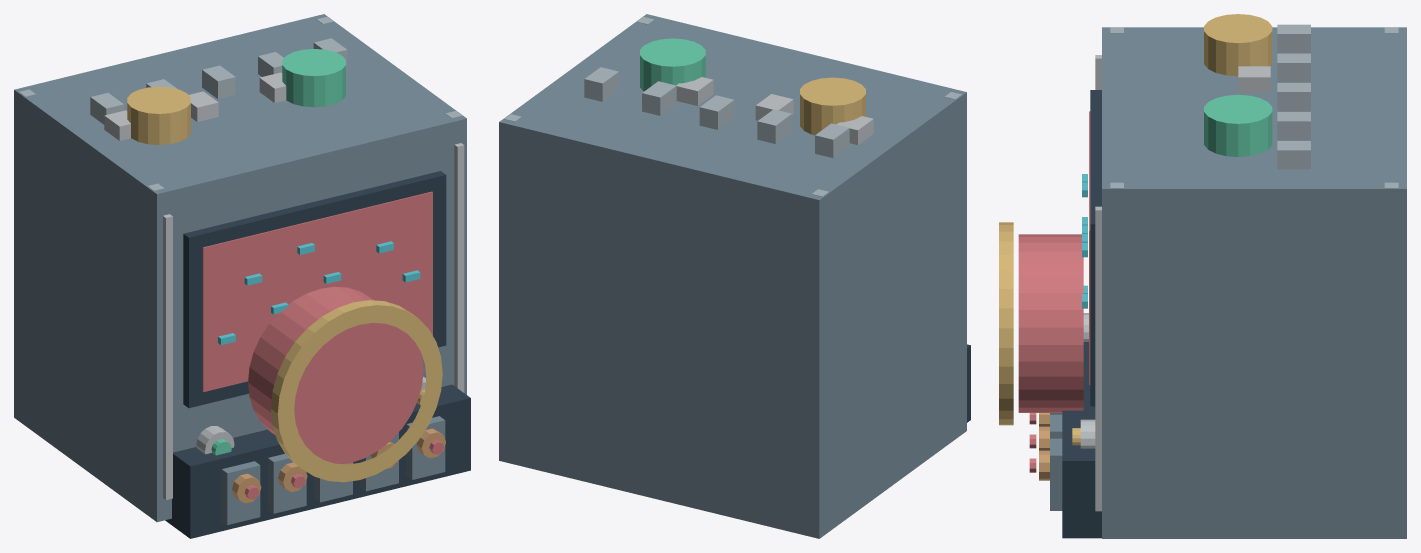
File: 39_L73_CMPEmergencySafetyStation.glb
The picture shows the model from 3 angles, left to right: view 1: azimuth 30°, elevation 25°; view 2: azimuth 150°, elevation 25°; view 3: azimuth 270°, elevation 25°; orthographic projection. The views are drawn at different scales.
Visible parts, largest first — view 1: CMPEmergencySafetyStation_Node_0000, CMPEmergencySafetyStation_Node_0008, CMPEmergencySafetyStation_Node_0050, CMPEmergencySafetyStation_Node_0007, CMPEmergencySafetyStation_Node_0034, CMPEmergencySafetyStation_Node_0051, CMPEmergencySafetyStation_Node_0052, CMPEmergencySafetyStation_Node_0053, CMPEmergencySafetyStation_Node_0005, CMPEmergencySafetyStation_Node_0006, CMPEmergencySafetyStation_Node_0035, CMPEmergencySafetyStation_Node_0038 (+9 smaller); view 2: CMPEmergencySafetyStation_Node_0000, CMPEmergencySafetyStation_Node_0052, CMPEmergencySafetyStation_Node_0053, CMPEmergencySafetyStation_Node_0026, CMPEmergencySafetyStation_Node_0028, CMPEmergencySafetyStation_Node_0025, CMPEmergencySafetyStation_Node_0024, CMPEmergencySafetyStation_Node_0027, CMPEmergencySafetyStation_Node_0023, CMPEmergencySafetyStation_Node_0021, CMPEmergencySafetyStation_Node_0022; view 3: CMPEmergencySafetyStation_Node_0000, CMPEmergencySafetyStation_Node_0050, CMPEmergencySafetyStation_Node_0034, CMPEmergencySafetyStation_Node_0053, CMPEmergencySafetyStation_Node_0052, CMPEmergencySafetyStation_Node_0051, CMPEmergencySafetyStation_Node_0007, CMPEmergencySafetyStation_Node_0006, CMPEmergencySafetyStation_Node_0024, CMPEmergencySafetyStation_Node_0025, CMPEmergencySafetyStation_Node_0026, CMPEmergencySafetyStation_Node_0027 (+4 smaller).
Part boxes in pixels (x1,y1,x2,y2): CMPEmergencySafetyStation_Node_0000: (14, 14, 466, 522); CMPEmergencySafetyStation_Node_0008: (202, 191, 432, 391); CMPEmergencySafetyStation_Node_0050: (248, 286, 423, 464); CMPEmergencySafetyStation_Node_0007: (183, 171, 446, 408); CMPEmergencySafetyStation_Node_0034: (165, 384, 470, 538); CMPEmergencySafetyStation_Node_0051: (271, 300, 442, 482); CMPEmergencySafetyStation_Node_0052: (127, 86, 190, 144); CMPEmergencySafetyStation_Node_0053: (282, 49, 345, 107); CMPEmergencySafetyStation_Node_0005: (163, 214, 172, 499); CMPEmergencySafetyStation_Node_0006: (454, 143, 464, 392); CMPEmergencySafetyStation_Node_0035: (221, 461, 260, 524); CMPEmergencySafetyStation_Node_0038: (268, 454, 306, 513); CMPEmergencySafetyStation_Node_0000: (499, 14, 966, 538); CMPEmergencySafetyStation_Node_0052: (800, 77, 865, 135); CMPEmergencySafetyStation_Node_0053: (640, 38, 705, 91); CMPEmergencySafetyStation_Node_0026: (699, 95, 734, 129); CMPEmergencySafetyStation_Node_0028: (584, 67, 618, 101); CMPEmergencySafetyStation_Node_0025: (757, 109, 791, 143); CMPEmergencySafetyStation_Node_0024: (815, 123, 849, 158); CMPEmergencySafetyStation_Node_0027: (642, 81, 676, 115); CMPEmergencySafetyStation_Node_0023: (676, 77, 713, 105); CMPEmergencySafetyStation_Node_0021: (836, 116, 873, 144); CMPEmergencySafetyStation_Node_0022: (755, 94, 793, 120); CMPEmergencySafetyStation_Node_0000: (1102, 27, 1406, 538); CMPEmergencySafetyStation_Node_0050: (1018, 234, 1083, 412); CMPEmergencySafetyStation_Node_0034: (1062, 342, 1101, 538); CMPEmergencySafetyStation_Node_0053: (1204, 94, 1272, 156); CMPEmergencySafetyStation_Node_0052: (1204, 14, 1272, 76); CMPEmergencySafetyStation_Node_0051: (999, 222, 1013, 425); CMPEmergencySafetyStation_Node_0007: (1090, 90, 1101, 406); CMPEmergencySafetyStation_Node_0006: (1095, 206, 1101, 511); CMPEmergencySafetyStation_Node_0024: (1277, 24, 1310, 52); CMPEmergencySafetyStation_Node_0025: (1277, 53, 1310, 81); CMPEmergencySafetyStation_Node_0026: (1277, 83, 1310, 111); CMPEmergencySafetyStation_Node_0027: (1277, 112, 1310, 140).
Bounding box in the file's own units: 0.94 × 1.06 × 1.
